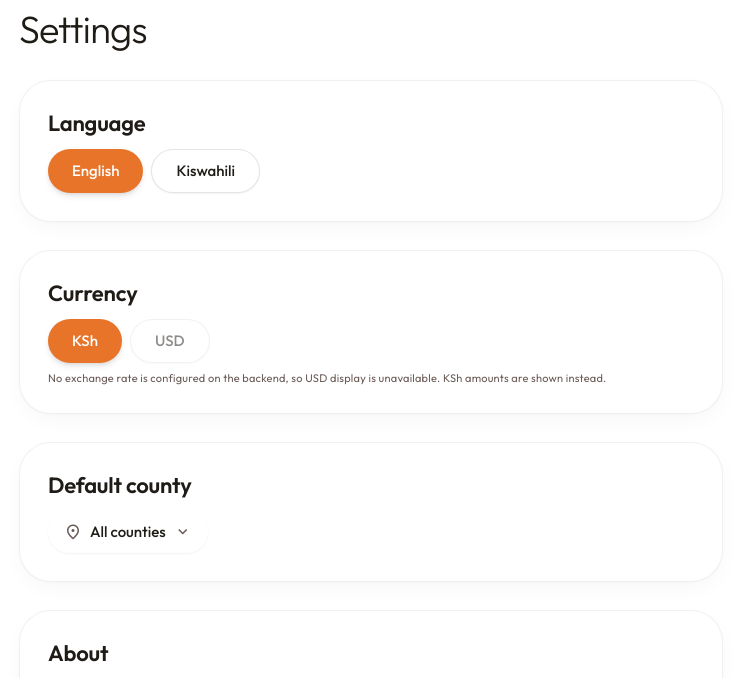
Test case: P8b (a): county options › changing the mocked row_counts changes the options
Click the button "All counties": (128, 532) x1=48 y1=511 x2=208 y2=553
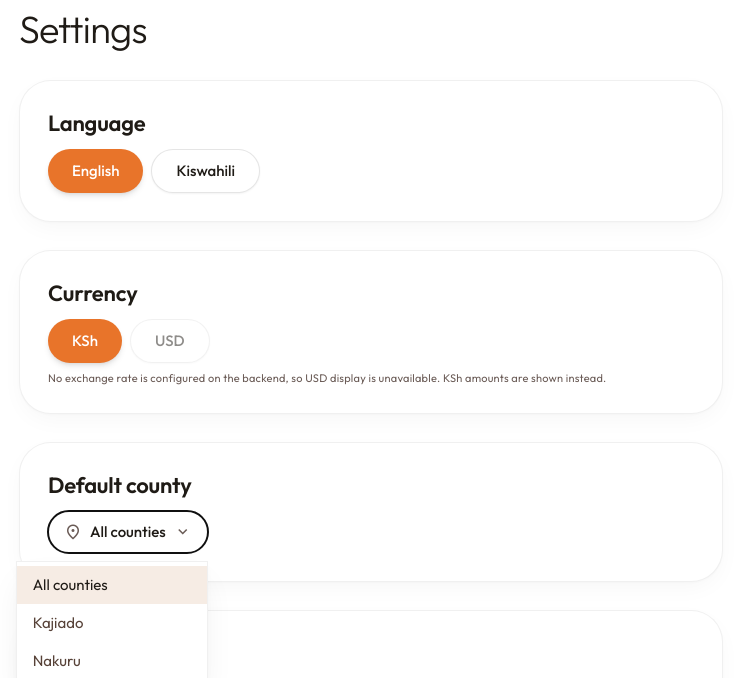
Expected: the button "Kajiado" is shown, x1=17 y1=604 x2=207 y2=642
